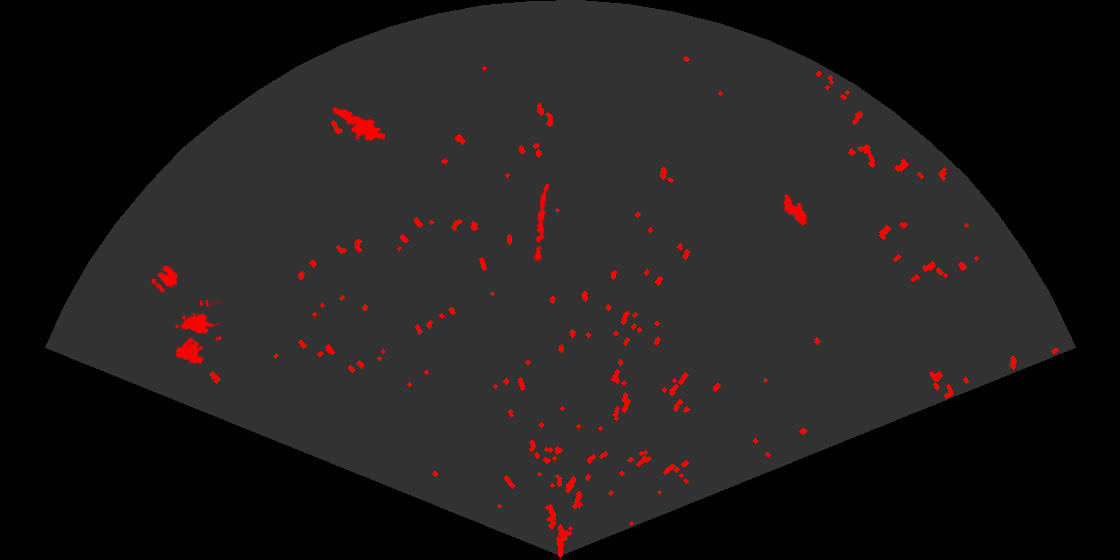AUV: (782, 192, 809, 228)
ball: (149, 264, 179, 294)
cage: (173, 300, 221, 366)
chain: (532, 181, 551, 262)
frogman: (330, 106, 385, 143)
